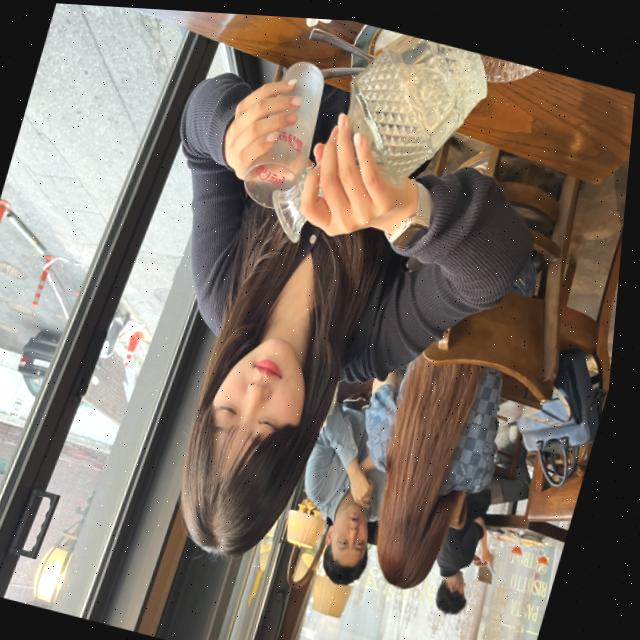eating-person: (62, 5, 591, 632)
